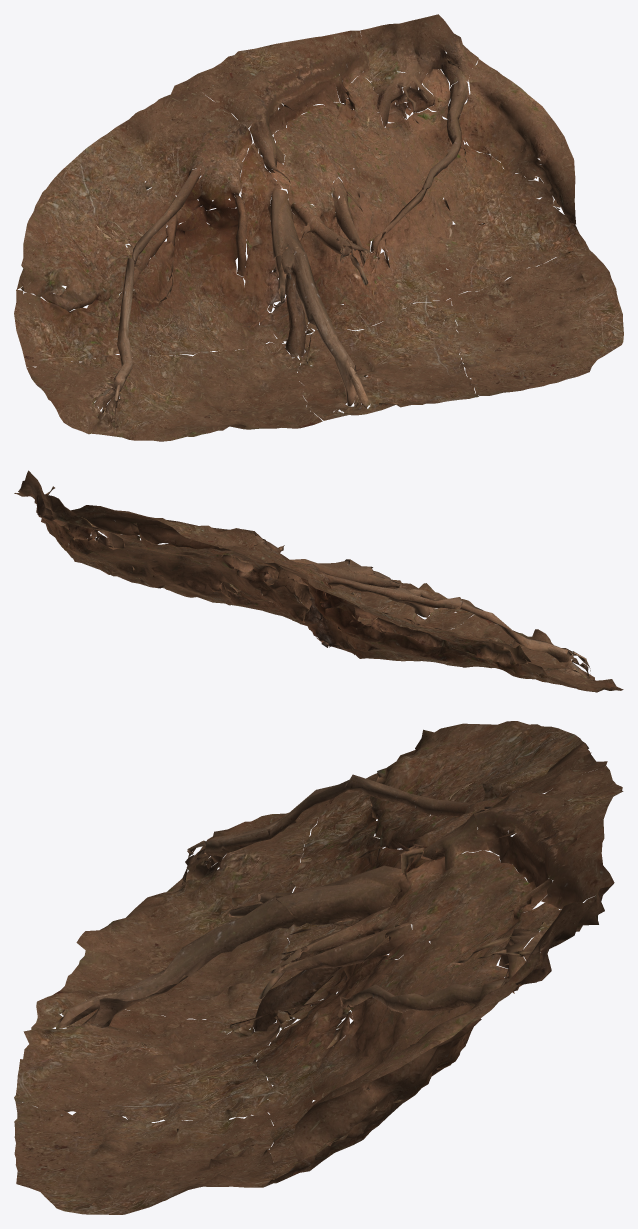
Rendered from root_cluster_01.glb.
3 renders of one model, top to bottom at view 1: azimuth 30°, elevation 25°; view 2: azimuth 150°, elevation 25°; view 3: azimuth 270°, elevation 25°, orthographic. The views are drawn at different scales.
Parts seen in each view (by area): view 1: root_cluster_01; view 2: root_cluster_01; view 3: root_cluster_01.
Part boxes in pixels (x1,y1,x2,y2): root_cluster_01: (14,14,623,441); root_cluster_01: (14,470,623,692); root_cluster_01: (14,721,623,1214).
Bounding box in the file's own units: 4.12 × 1.51 × 2.68.
Materials: 1 (1 with a texture image).
